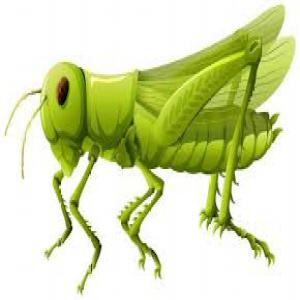locust: (12, 27, 300, 234)
